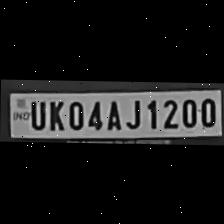0: (64, 98, 84, 130), (178, 96, 198, 127), (198, 94, 216, 127)
1: (141, 97, 158, 128)
2: (158, 96, 180, 130)
4: (84, 97, 104, 130)
A: (102, 97, 122, 129)
J: (121, 97, 141, 128)
K: (44, 98, 64, 132)
U: (27, 98, 45, 130)
